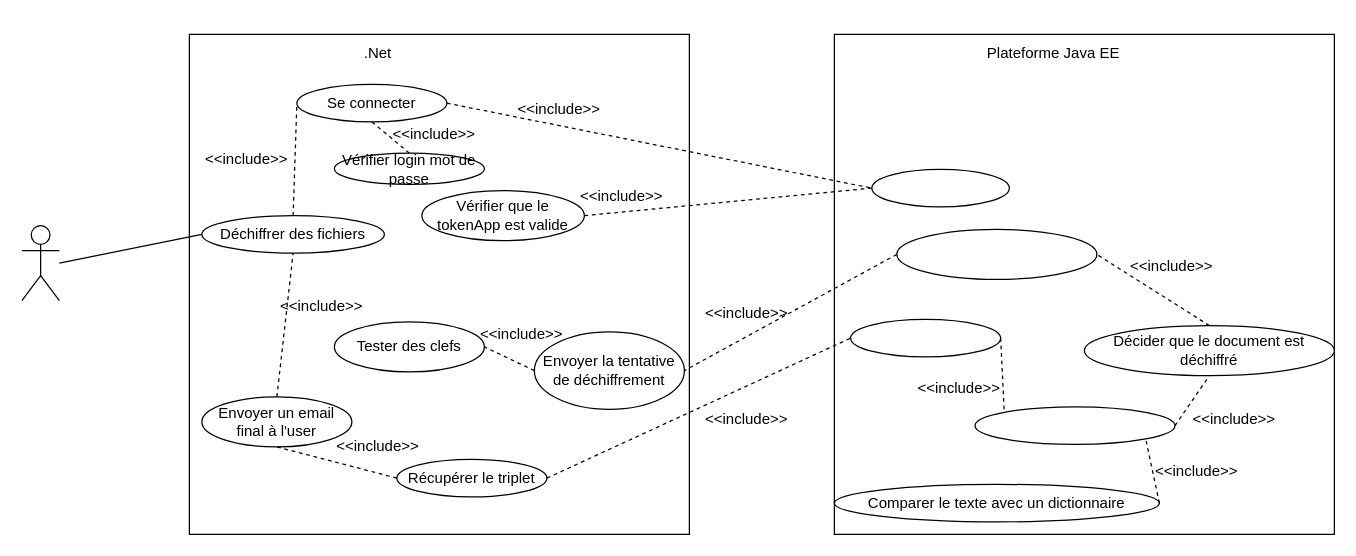
Image size: 1356x556. Some labels were removed from this diagram. The centre of each missing label's shape, as x and y in pixels:
Actor: the point at 40,262
Envoyer le triplet: the point at 925,337
Fournir un token: the point at 940,187
Trouver l'information secrète: the point at 1074,425
Vérifier la tentative de déchiffrement: the point at 996,253
